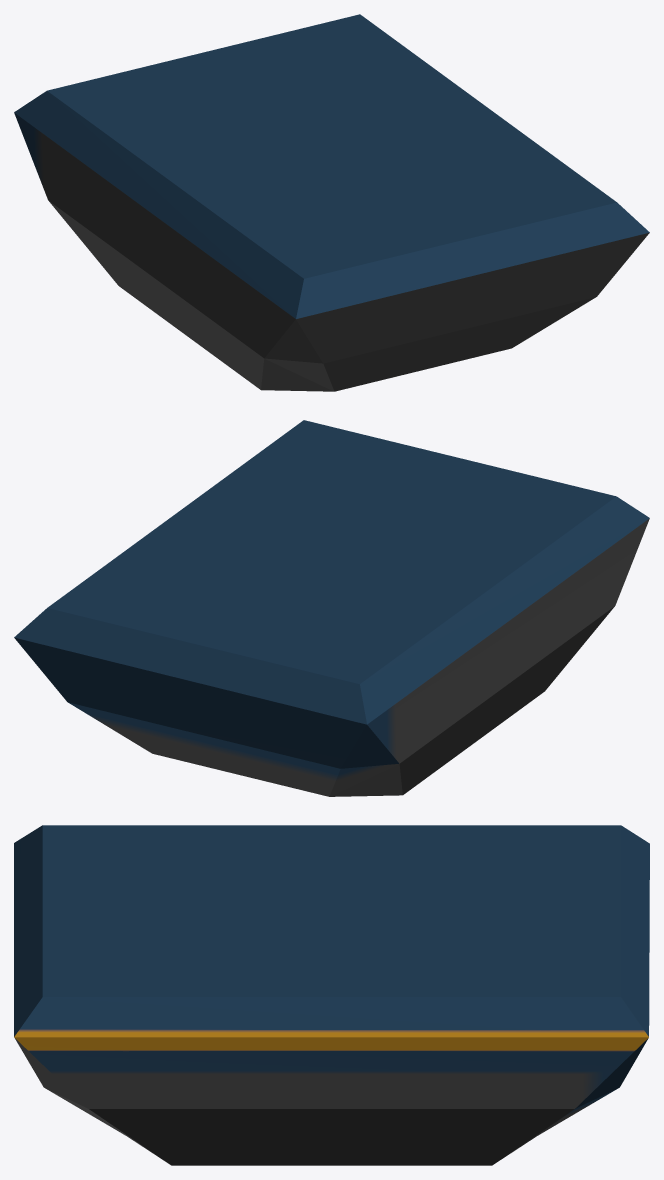
File: body0_army1.obj
3 renders of one model, top to bottom at view 1: azimuth 30°, elevation 25°; view 2: azimuth 150°, elevation 25°; view 3: azimuth 270°, elevation 25°, orthographic. The views are drawn at different scales.
Visible parts, largest first — view 1: Body0; view 2: Body0; view 3: Body0.
Boxes of the visible parts, bbox=[...] form: Body0: bbox=[14, 14, 649, 391]; Body0: bbox=[14, 420, 649, 796]; Body0: bbox=[14, 825, 649, 1165].
Bounding box in the file's own units: 1.85 × 0.8856 × 2.55.
Materials: 1 (1 with a texture image).
